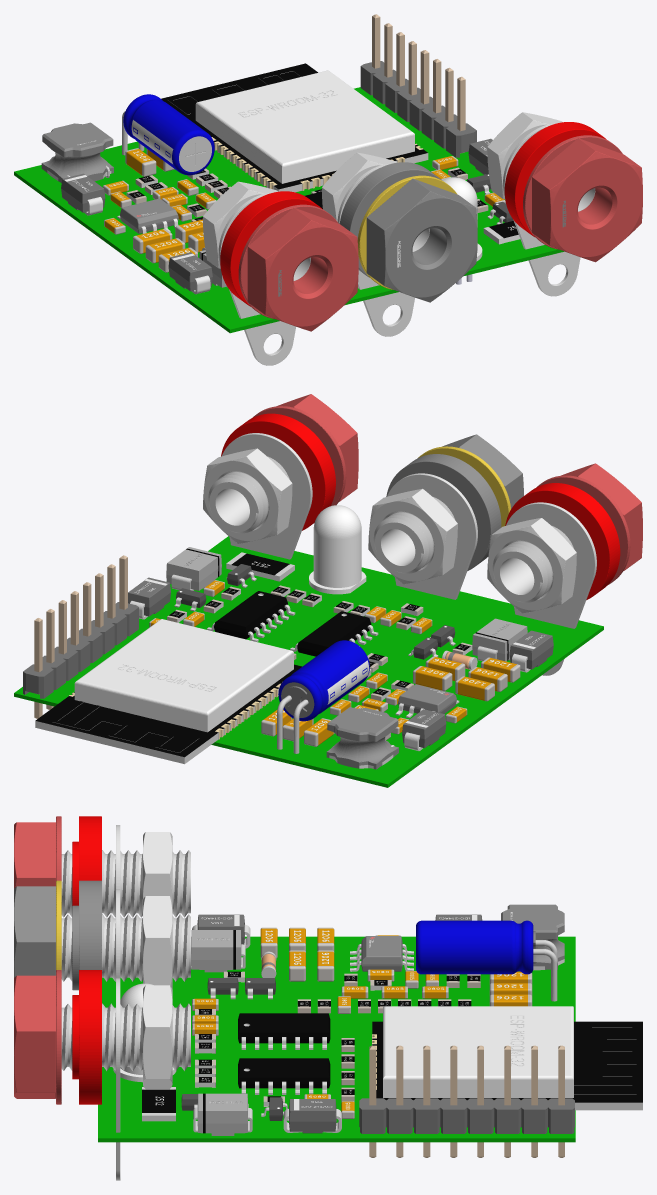
The model's file is T-Sim200V3.glb.
The picture shows the model from 3 angles, top to bottom: view 1: azimuth 30°, elevation 25°; view 2: azimuth 150°, elevation 25°; view 3: azimuth 270°, elevation 25°; orthographic projection. The views are drawn at different scales.
Parts seen in each view (by area): view 1: Node19, Node5, Node4, Node2, Node20, Node13, Node23, Node11, Node12, Node29, Node31, Node27 (+9 smaller); view 2: Node2, Node20, Node4, Node23, Node5, Node13, Node19, Node29, Node11, Node12, Node27, Node31 (+14 smaller); view 3: Node20, Node2, Node4, Node23, Node5, Node19, Node12, Node31, Node13, Node29, Node11, Node10 (+11 smaller).
Boxes of the visible parts, left/top/right/bottom form: Node19: left=238, top=135, right=642, bottom=331; Node5: left=41, top=122, right=566, bottom=302; Node4: left=77, top=70, right=520, bottom=261; Node2: left=47, top=112, right=595, bottom=365; Node20: left=14, top=87, right=564, bottom=333; Node13: left=220, top=122, right=606, bottom=306; Node23: left=129, top=63, right=518, bottom=260; Node11: left=372, top=14, right=465, bottom=153; Node12: left=360, top=61, right=476, bottom=157; Node29: left=105, top=149, right=504, bottom=262; Node31: left=123, top=94, right=214, bottom=175; Node27: left=61, top=138, right=492, bottom=291; Node2: left=203, top=433, right=596, bottom=768; Node20: left=14, top=536, right=603, bottom=787; Node4: left=74, top=505, right=511, bottom=732; Node23: left=35, top=548, right=508, bottom=757; Node5: left=326, top=434, right=523, bottom=769; Node13: left=221, top=413, right=620, bottom=599; Node19: left=252, top=394, right=642, bottom=585; Node29: left=151, top=580, right=516, bottom=745; Node11: left=34, top=555, right=127, bottom=718; Node12: left=23, top=602, right=138, bottom=698; Node27: left=128, top=577, right=553, bottom=748; Node31: left=278, top=640, right=369, bottom=721; Node20: left=98, top=936, right=575, bottom=1142; Node2: left=61, top=825, right=564, bottom=1180; Node4: left=113, top=912, right=573, bottom=1108; Node23: left=142, top=930, right=642, bottom=1133; Node5: left=14, top=880, right=564, bottom=990; Node19: left=14, top=816, right=61, bottom=1104; Node12: left=359, top=1098, right=574, bottom=1133; Node31: left=416, top=920, right=533, bottom=974; Node13: left=72, top=816, right=101, bottom=1104; Node29: left=194, top=928, right=527, bottom=1111; Node11: left=369, top=1045, right=564, bottom=1157; Node10: left=191, top=930, right=247, bottom=1135.
Bounding box in the file's own units: 46.91 × 20.64 × 59.26.
